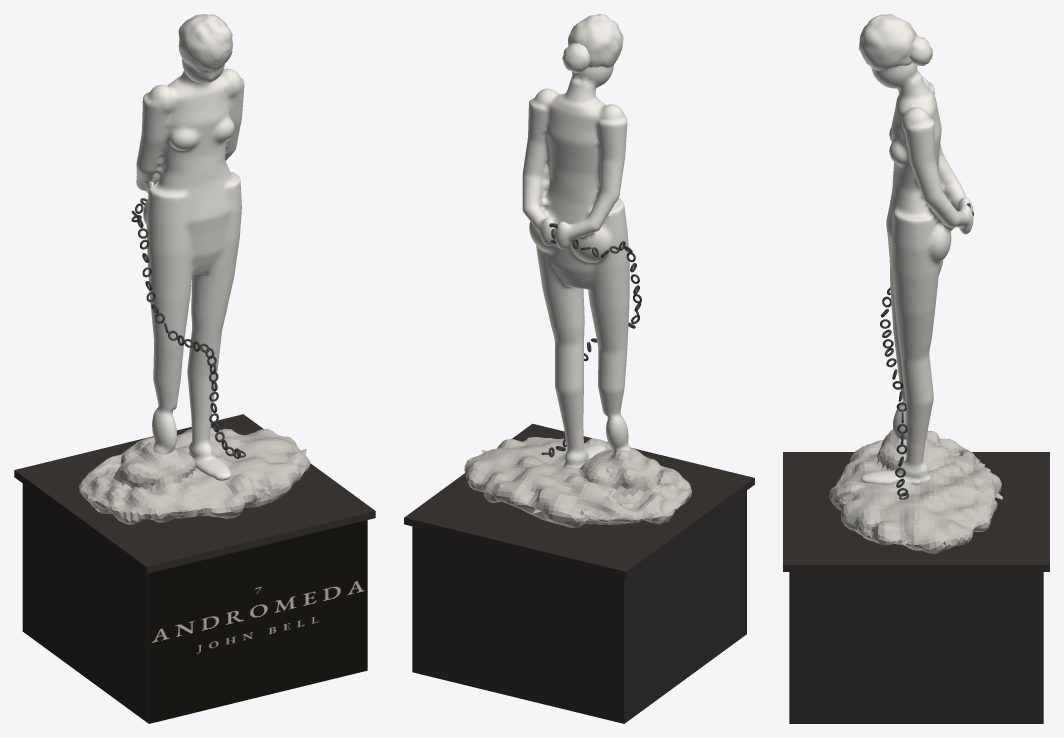
Rendered from andromeda.glb.
3 views of the same model, side by side, from view 1: azimuth 30°, elevation 25°; view 2: azimuth 150°, elevation 25°; view 3: azimuth 270°, elevation 25° (orthographic). The views are drawn at different scales.
Visible parts, largest first — view 1: PedestalFace, Figure, Pedestal, PedestalSlab, Rock, Hair, Chain; view 2: Pedestal, Figure, PedestalSlab, Rock, Hair, Chain, HairBun; view 3: Pedestal, Figure, PedestalSlab, Rock, Hair, Chain, HairBun.
Part boxes in pixels (left/top/right/bottom): PedestalFace: left=149, top=520, right=367, bottom=723; Figure: left=136, top=43, right=244, bottom=480; Pedestal: left=22, top=483, right=148, bottom=723; PedestalSlab: left=14, top=414, right=375, bottom=573; Rock: left=79, top=427, right=310, bottom=524; Hair: left=178, top=14, right=232, bottom=72; Chain: left=131, top=198, right=245, bottom=458; Pedestal: left=412, top=491, right=746, bottom=723; Figure: left=522, top=51, right=630, bottom=467; PedestalSlab: left=404, top=423, right=754, bottom=578; Rock: left=464, top=437, right=691, bottom=527; Hair: left=568, top=14, right=623, bottom=67; Chain: left=541, top=229, right=641, bottom=457; HairBun: left=562, top=43, right=590, bottom=72; Pedestal: left=789, top=572, right=1043, bottom=723; Figure: left=860, top=39, right=973, bottom=484; PedestalSlab: left=783, top=452, right=1049, bottom=571; Rock: left=829, top=429, right=1002, bottom=553; Hair: left=858, top=14, right=916, bottom=70; Chain: left=880, top=211, right=973, bottom=499; HairBun: left=909, top=35, right=932, bottom=65.
Bounding box in the file's own units: 0.86 × 2.32 × 0.86.
Materials: 5 (1 with a texture image).
